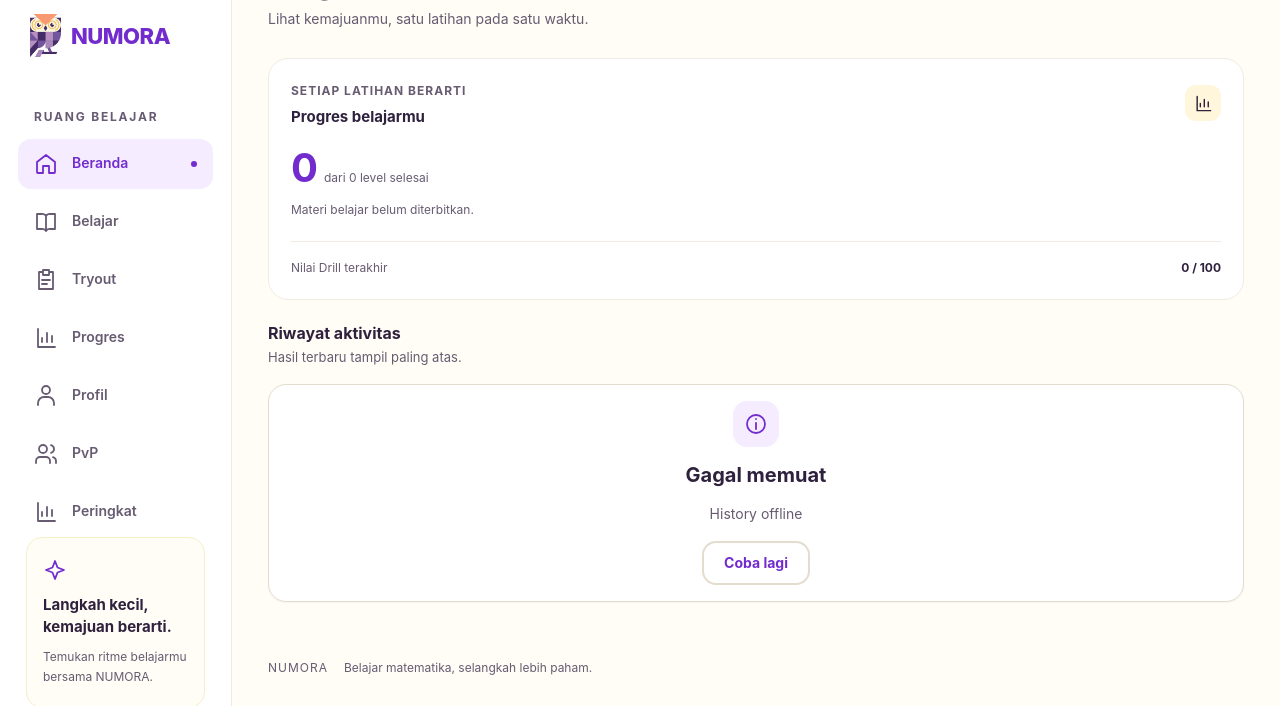
Test: assessment history states › retries a first-page network failure instead of showing empty data
(page scrolled)
Expected: the text "History offline" is shown, [702,503,810,525]
Click the button "Coba lagi". click: x=756, y=563
box: [702,541,810,585]
(page scrolled)
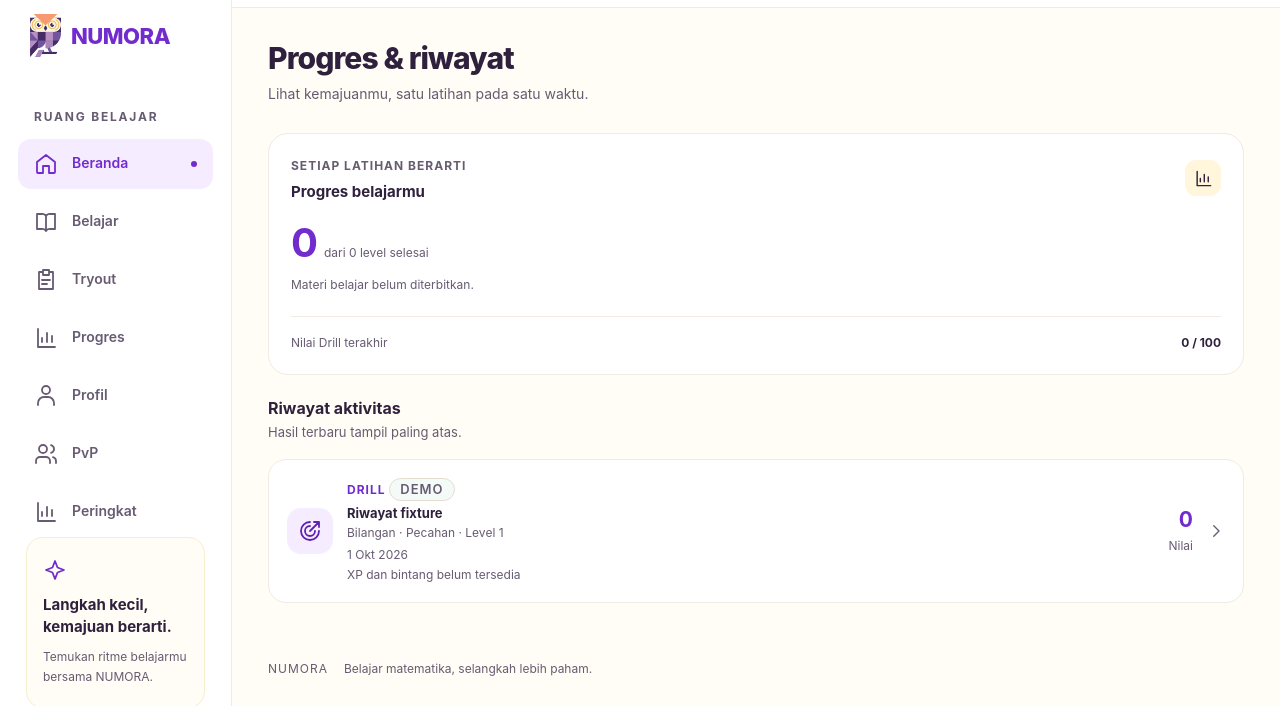
Now the heading "Riwayat fixture" is shown, box [347,505,443,521]
